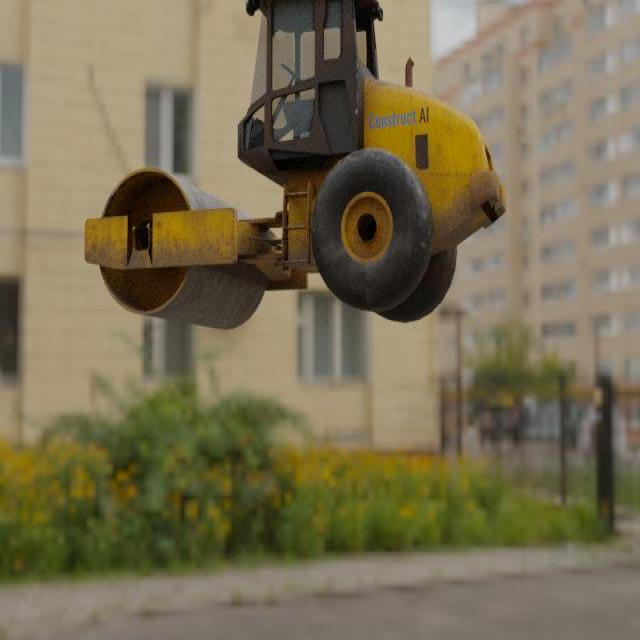Roller: (84, 0, 506, 331)
